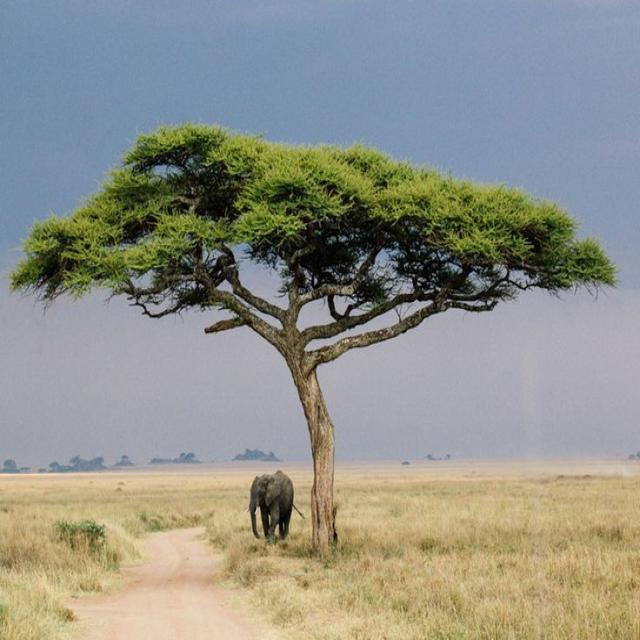Acacia: (48, 136, 572, 461)
